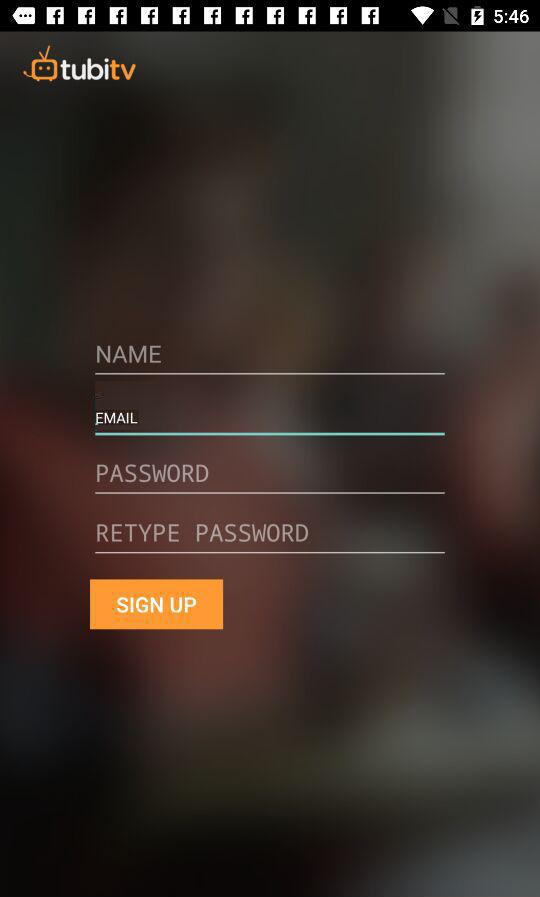EditText: (95, 523, 446, 555), (95, 463, 446, 495), (95, 345, 446, 376), (95, 411, 446, 437)
Image: (22, 45, 138, 84)
Text: (97, 523, 309, 543), (98, 464, 210, 484), (97, 345, 163, 365), (96, 413, 139, 426)
TextButton: (90, 579, 224, 630)
UpperTaskBar: (1, 1, 540, 33)
